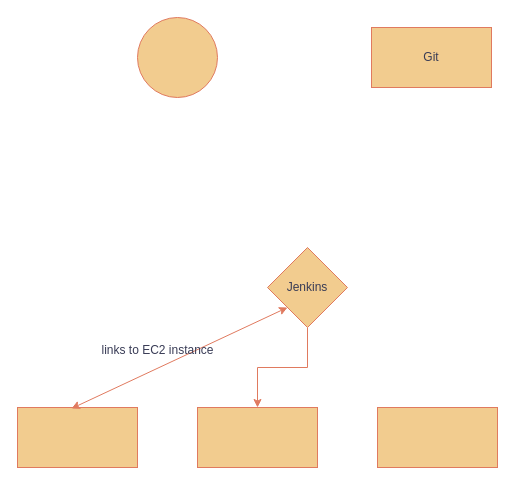
The diagram is 515 pixels wide and 485 high, and some of its shapes have lost their labels. Here are the shapes that lost their labels. From the top down, the centre of each, then its label:
At point 177,57: "Dev".
At point 77,437: "EC2 instance".
